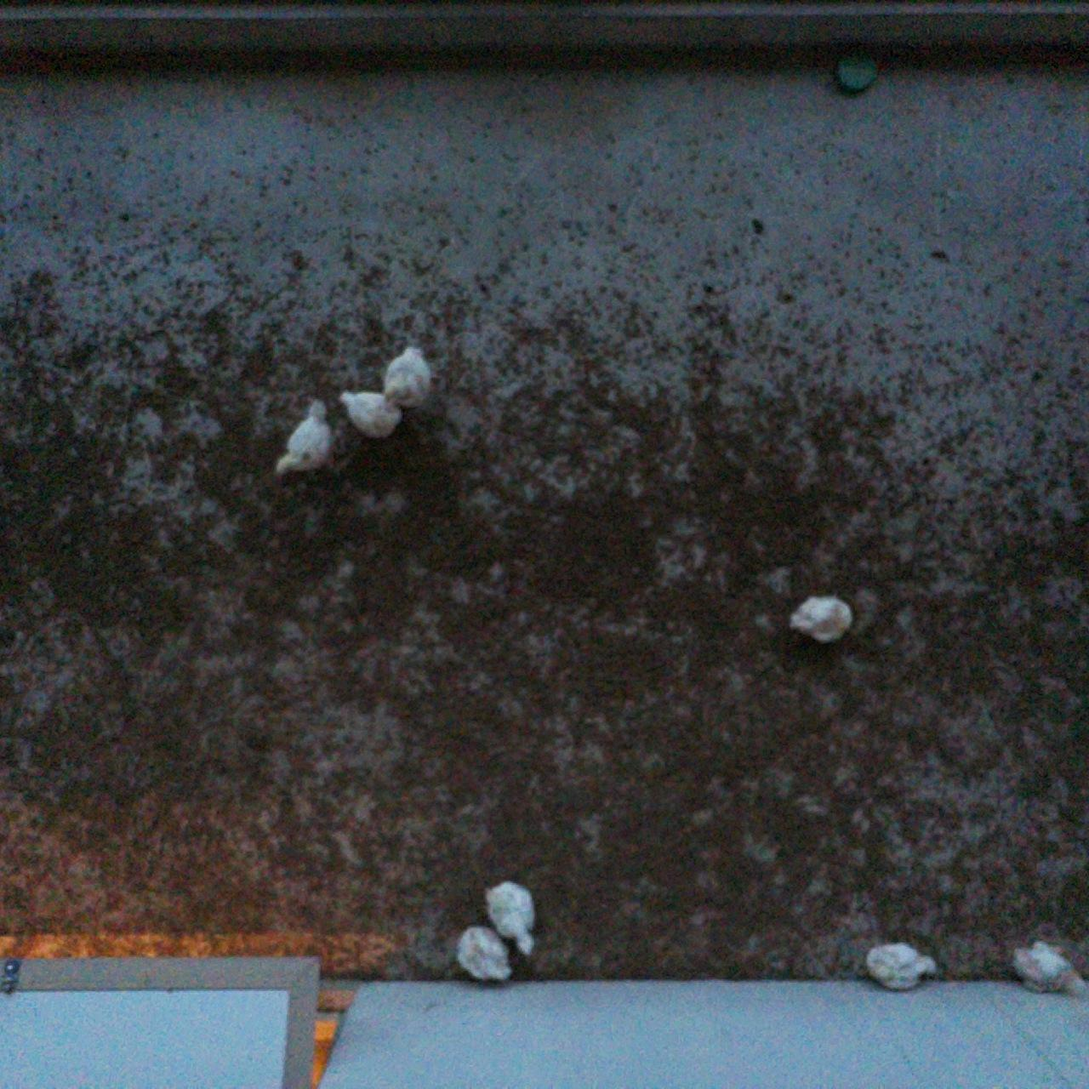chicken: (1006, 936, 1089, 1006), (274, 394, 338, 478), (483, 878, 539, 959), (338, 384, 405, 445), (862, 939, 939, 992), (453, 923, 515, 987), (789, 592, 857, 646), (381, 343, 435, 411)
